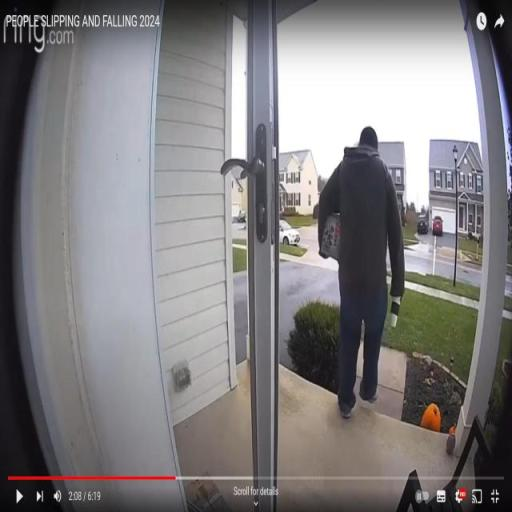Fall: (314, 120, 408, 422)
